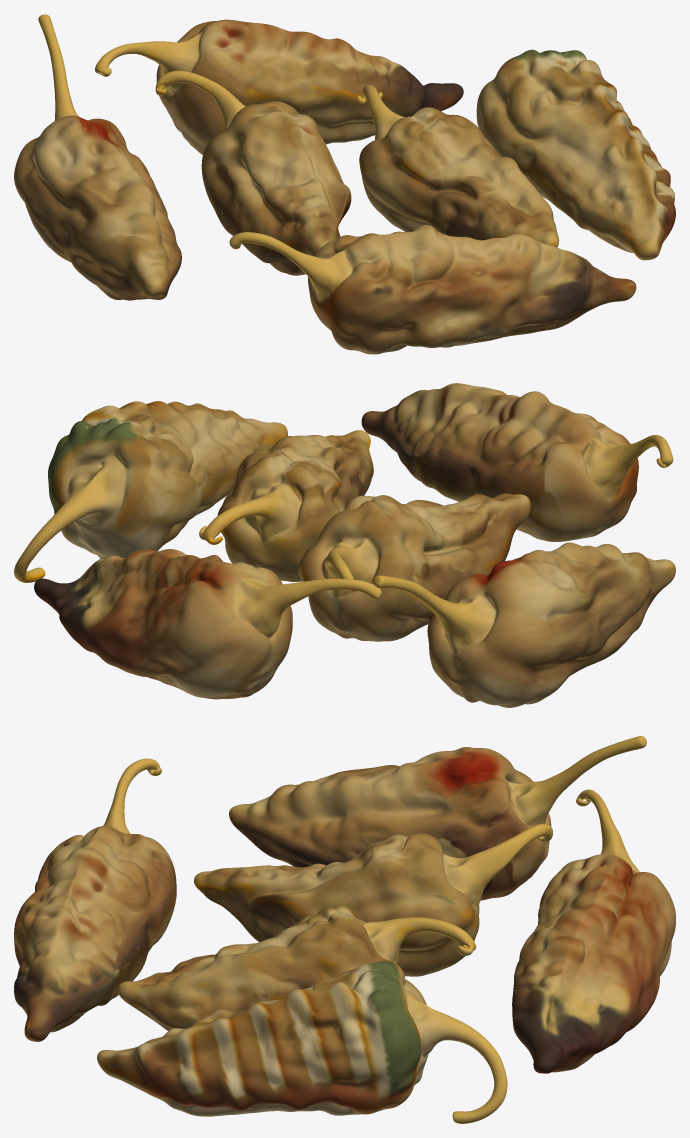
The model's file is biwapurChilli.glb.
3 renders of one model, top to bottom at view 1: azimuth 30°, elevation 25°; view 2: azimuth 150°, elevation 25°; view 3: azimuth 270°, elevation 25°, orthographic. The views are drawn at different scales.
Parts seen in each view (by area): view 1: tripo_node_93c80610-776a-460d-b7be-2a089bcdd05d; view 2: tripo_node_93c80610-776a-460d-b7be-2a089bcdd05d; view 3: tripo_node_93c80610-776a-460d-b7be-2a089bcdd05d.
Part boxes in pixels (x1,y1,x2,y2): tripo_node_93c80610-776a-460d-b7be-2a089bcdd05d: (14,14,675,354); tripo_node_93c80610-776a-460d-b7be-2a089bcdd05d: (14,383,675,707); tripo_node_93c80610-776a-460d-b7be-2a089bcdd05d: (14,736,675,1123).
Size of the model in its own units: 0.9862 by 0.2953 by 1.
Materials: 1 (1 with a texture image).
